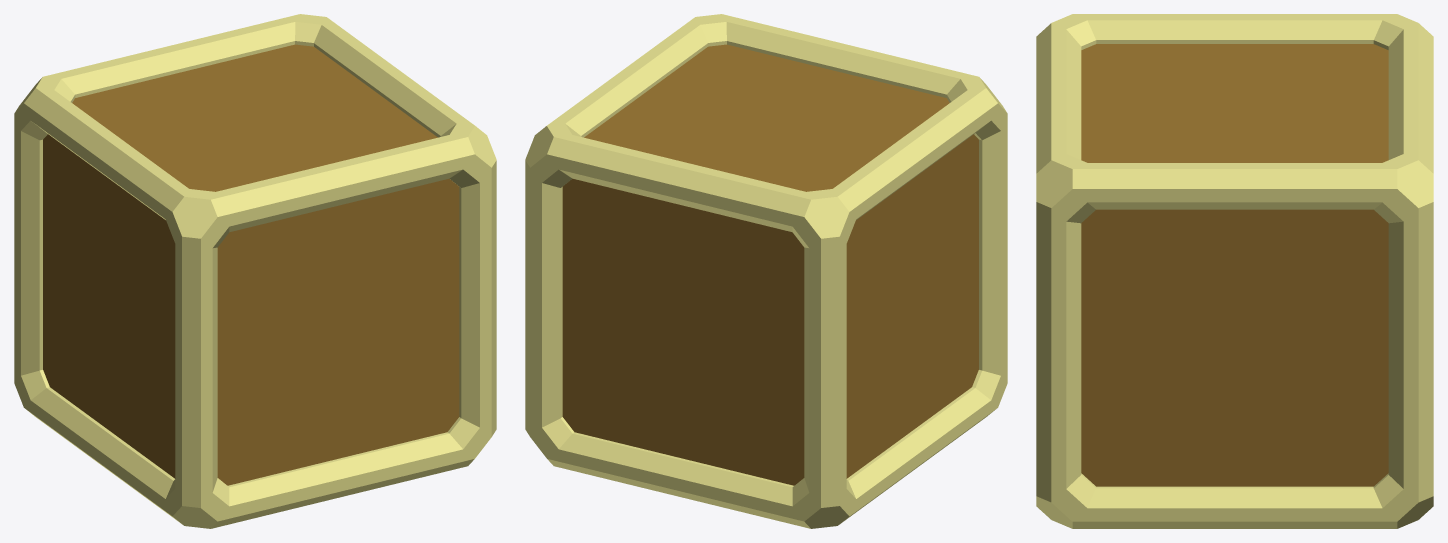
Rendered from block_wood_2.fbx.
3 renders of one model, left to right at view 1: azimuth 30°, elevation 25°; view 2: azimuth 150°, elevation 25°; view 3: azimuth 270°, elevation 25°, orthographic. The views are drawn at different scales.
Visible parts, largest first — view 1: block_wood_2; view 2: block_wood_2; view 3: block_wood_2.
Part boxes in pixels (x1,y1,x2,y2): block_wood_2: (14, 14, 496, 528); block_wood_2: (525, 14, 1007, 528); block_wood_2: (1036, 14, 1433, 528).
Bounding box in the file's own units: 200 × 200 × 200.
